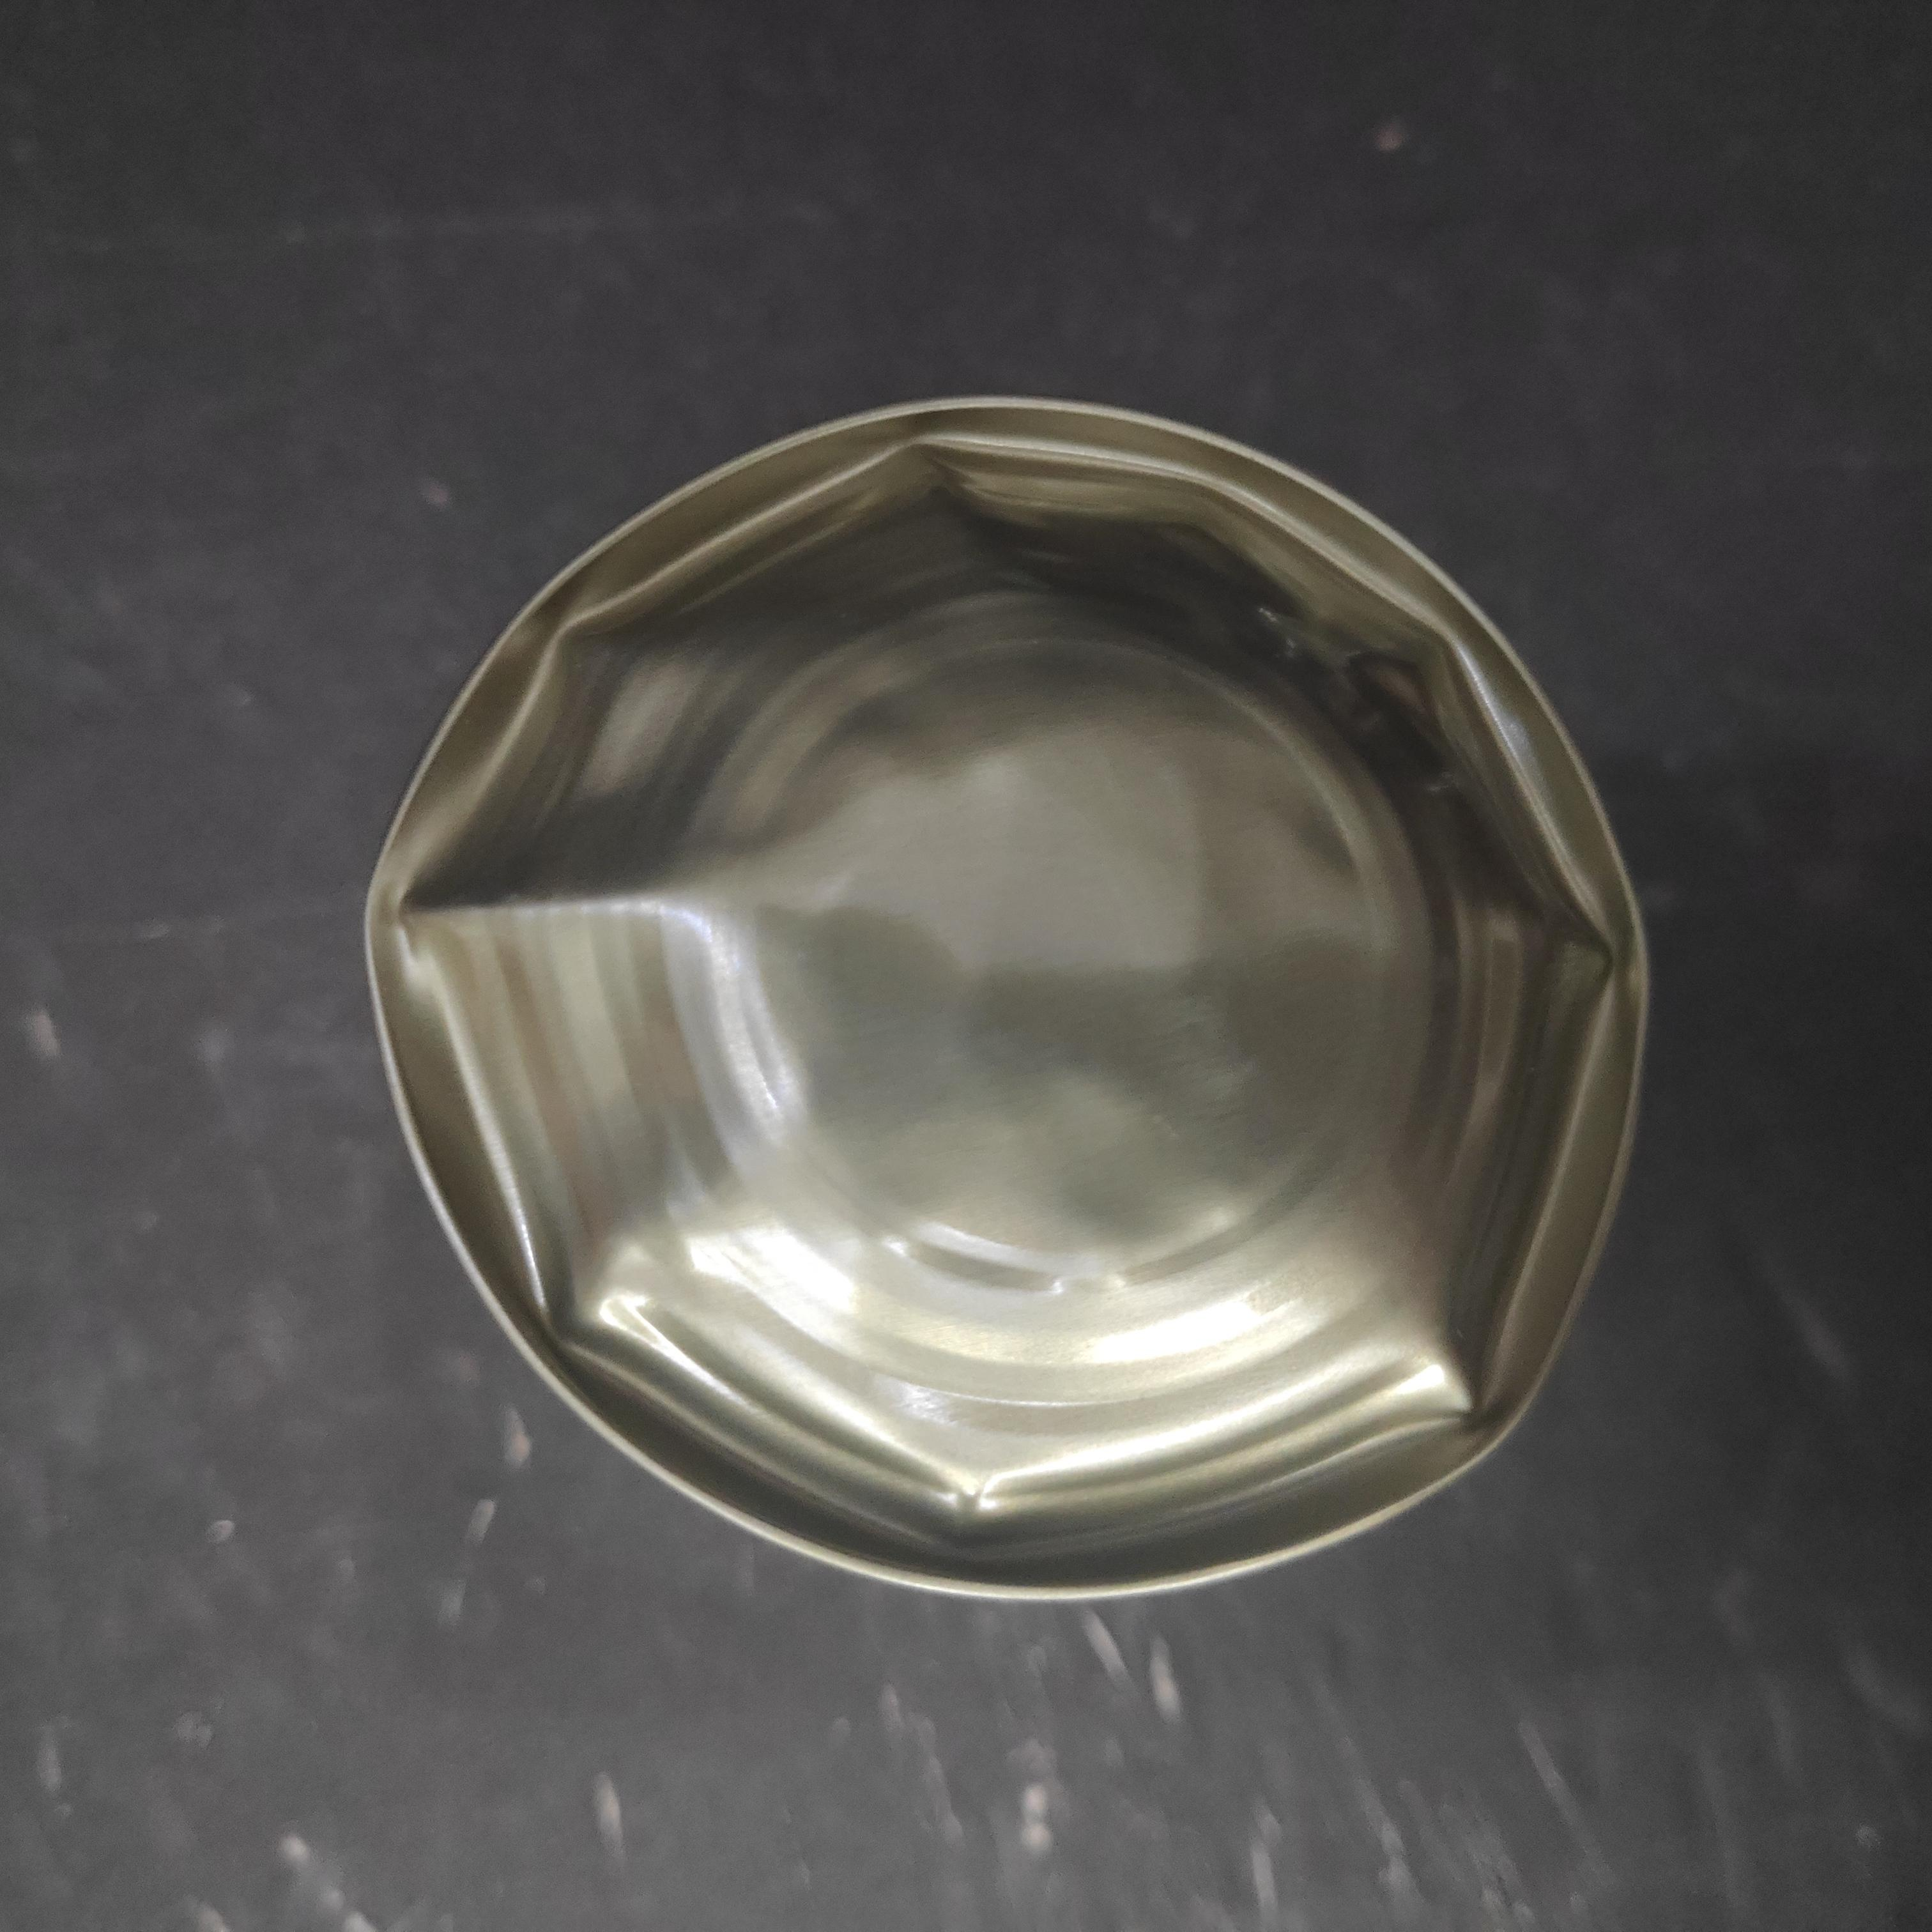Critical Defect: (318, 349, 1552, 1668)
